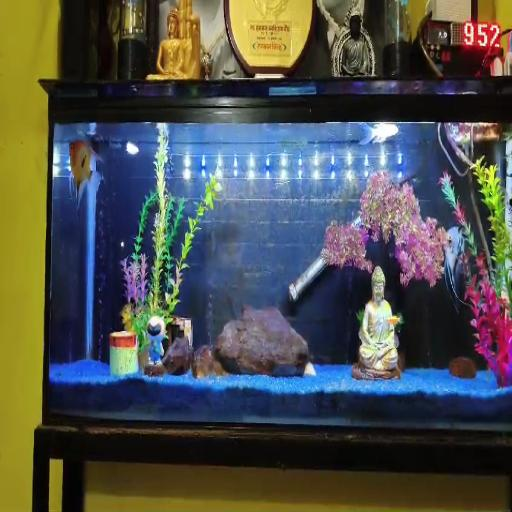Fish: (69, 141, 100, 214), (445, 227, 466, 311), (359, 123, 398, 145), (388, 316, 399, 325)
